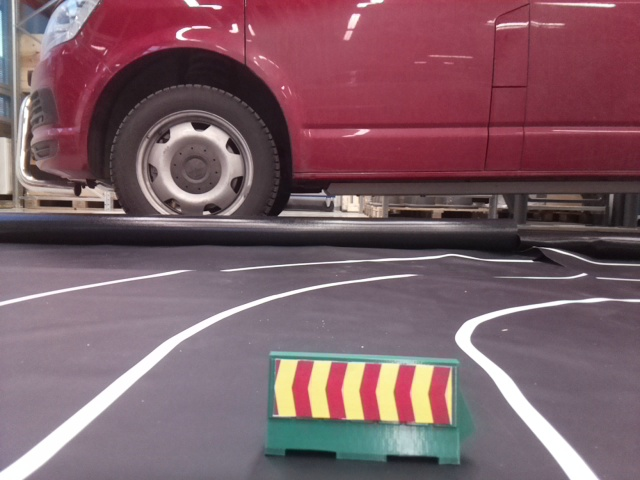ClosedRoadStand: (270, 352, 460, 462)
